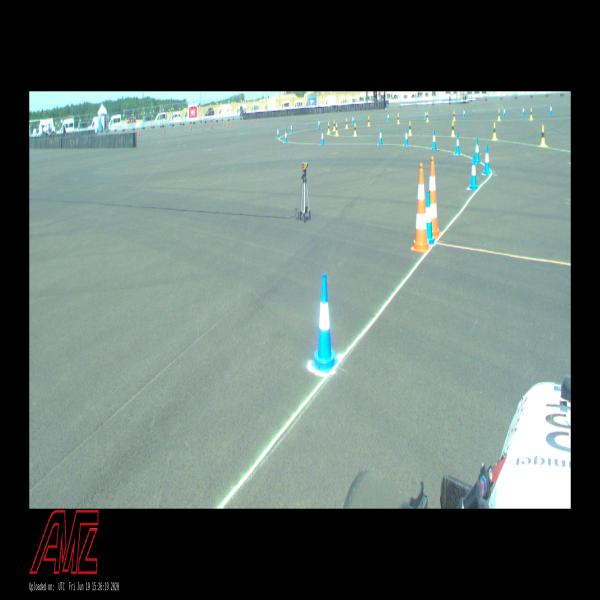blue_cone: (311, 274, 339, 372), (422, 190, 434, 244), (469, 154, 478, 190), (483, 145, 491, 174), (474, 137, 480, 163), (455, 132, 460, 156), (432, 129, 436, 150), (404, 129, 408, 146), (378, 128, 382, 145), (320, 130, 324, 145), (284, 129, 288, 142), (276, 126, 280, 139), (522, 106, 525, 116), (503, 107, 506, 117), (290, 123, 293, 133), (387, 112, 390, 121), (550, 104, 552, 115), (425, 110, 427, 120), (318, 119, 320, 129), (463, 108, 465, 118), (352, 116, 354, 125)
large_orange_cone: (411, 163, 432, 252), (425, 157, 441, 239)
yellow_cone: (540, 124, 546, 148), (492, 121, 497, 140), (451, 121, 455, 136), (408, 121, 412, 135), (334, 122, 338, 136), (353, 123, 357, 136), (529, 108, 533, 120), (497, 109, 501, 121), (327, 121, 330, 133), (453, 110, 456, 121), (426, 111, 429, 122), (345, 118, 348, 129), (332, 120, 335, 130), (397, 114, 400, 124), (368, 115, 370, 126)
